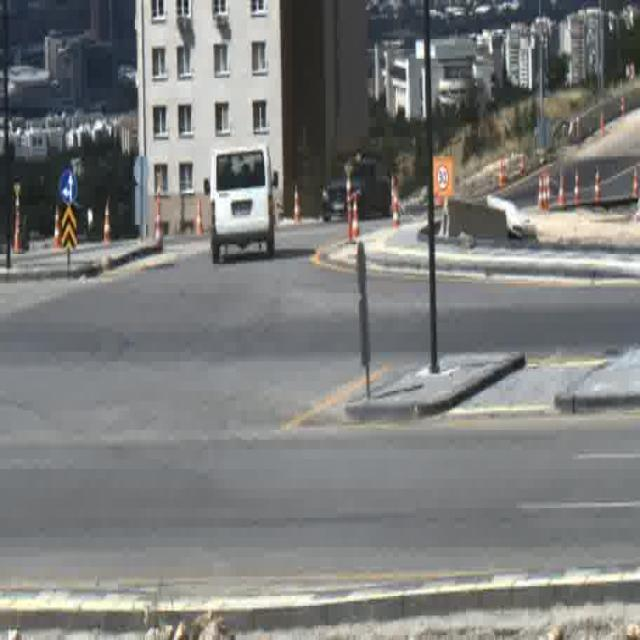Car: (210, 143, 274, 265), (322, 156, 392, 224)
